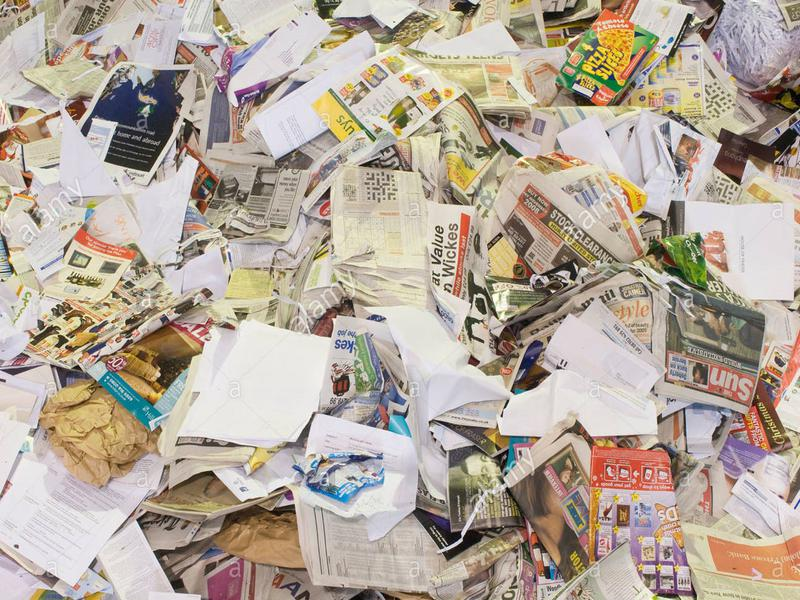cardboard: (550, 8, 664, 104)
paper: (151, 320, 332, 486), (10, 440, 173, 596), (308, 45, 502, 167), (66, 51, 206, 190), (491, 168, 649, 291), (587, 444, 707, 600), (297, 410, 422, 541), (670, 190, 800, 308), (497, 422, 594, 580), (327, 163, 431, 298), (539, 298, 666, 404), (39, 382, 155, 490), (669, 509, 800, 600), (43, 227, 140, 312)
